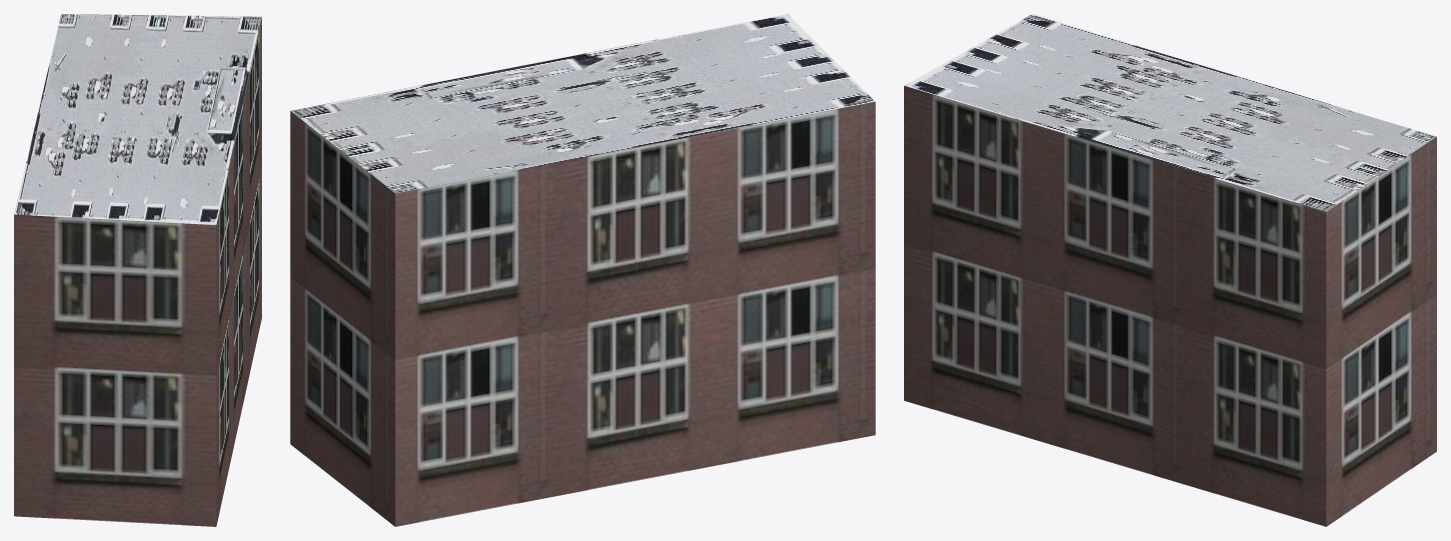
Rendered from ResTex__3593.fbx.
3 renders of one model, left to right at view 1: azimuth 30°, elevation 25°; view 2: azimuth 150°, elevation 25°; view 3: azimuth 270°, elevation 25°, orthographic. The views are drawn at different scales.
Parts seen in each view (by area): view 1: CityEngineMaterial_12_m, CityEngineMaterial_8_m; view 2: CityEngineMaterial_12_m, CityEngineMaterial_8_m; view 3: CityEngineMaterial_12_m, CityEngineMaterial_8_m.
Boxes of the visible parts, box(x1,y1,x2,y2) form: CityEngineMaterial_12_m: box(14, 17, 261, 526); CityEngineMaterial_8_m: box(14, 14, 261, 224); CityEngineMaterial_12_m: box(290, 101, 875, 526); CityEngineMaterial_8_m: box(290, 14, 874, 193); CityEngineMaterial_12_m: box(904, 86, 1436, 526); CityEngineMaterial_8_m: box(904, 14, 1436, 211).
Bounding box in the file's own units: 8.09 × 6 × 9.2.
2 materials, 2 textured.
